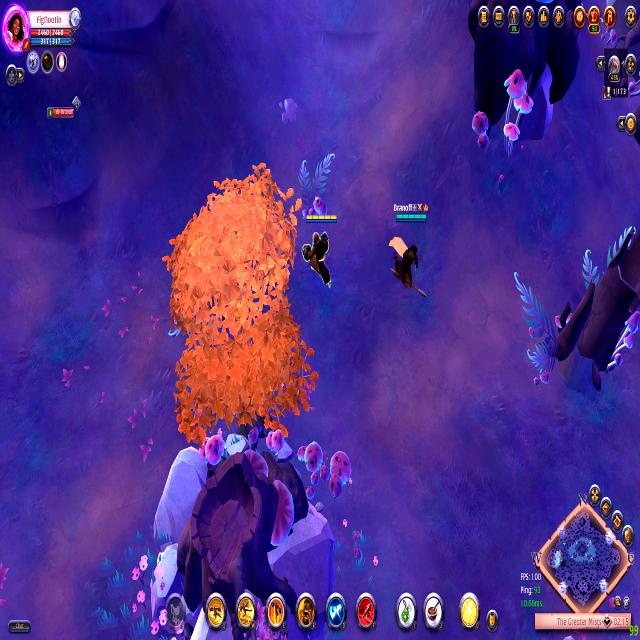red: (385, 199, 432, 301), (298, 206, 340, 290)
wisp caged: (162, 151, 319, 450)
